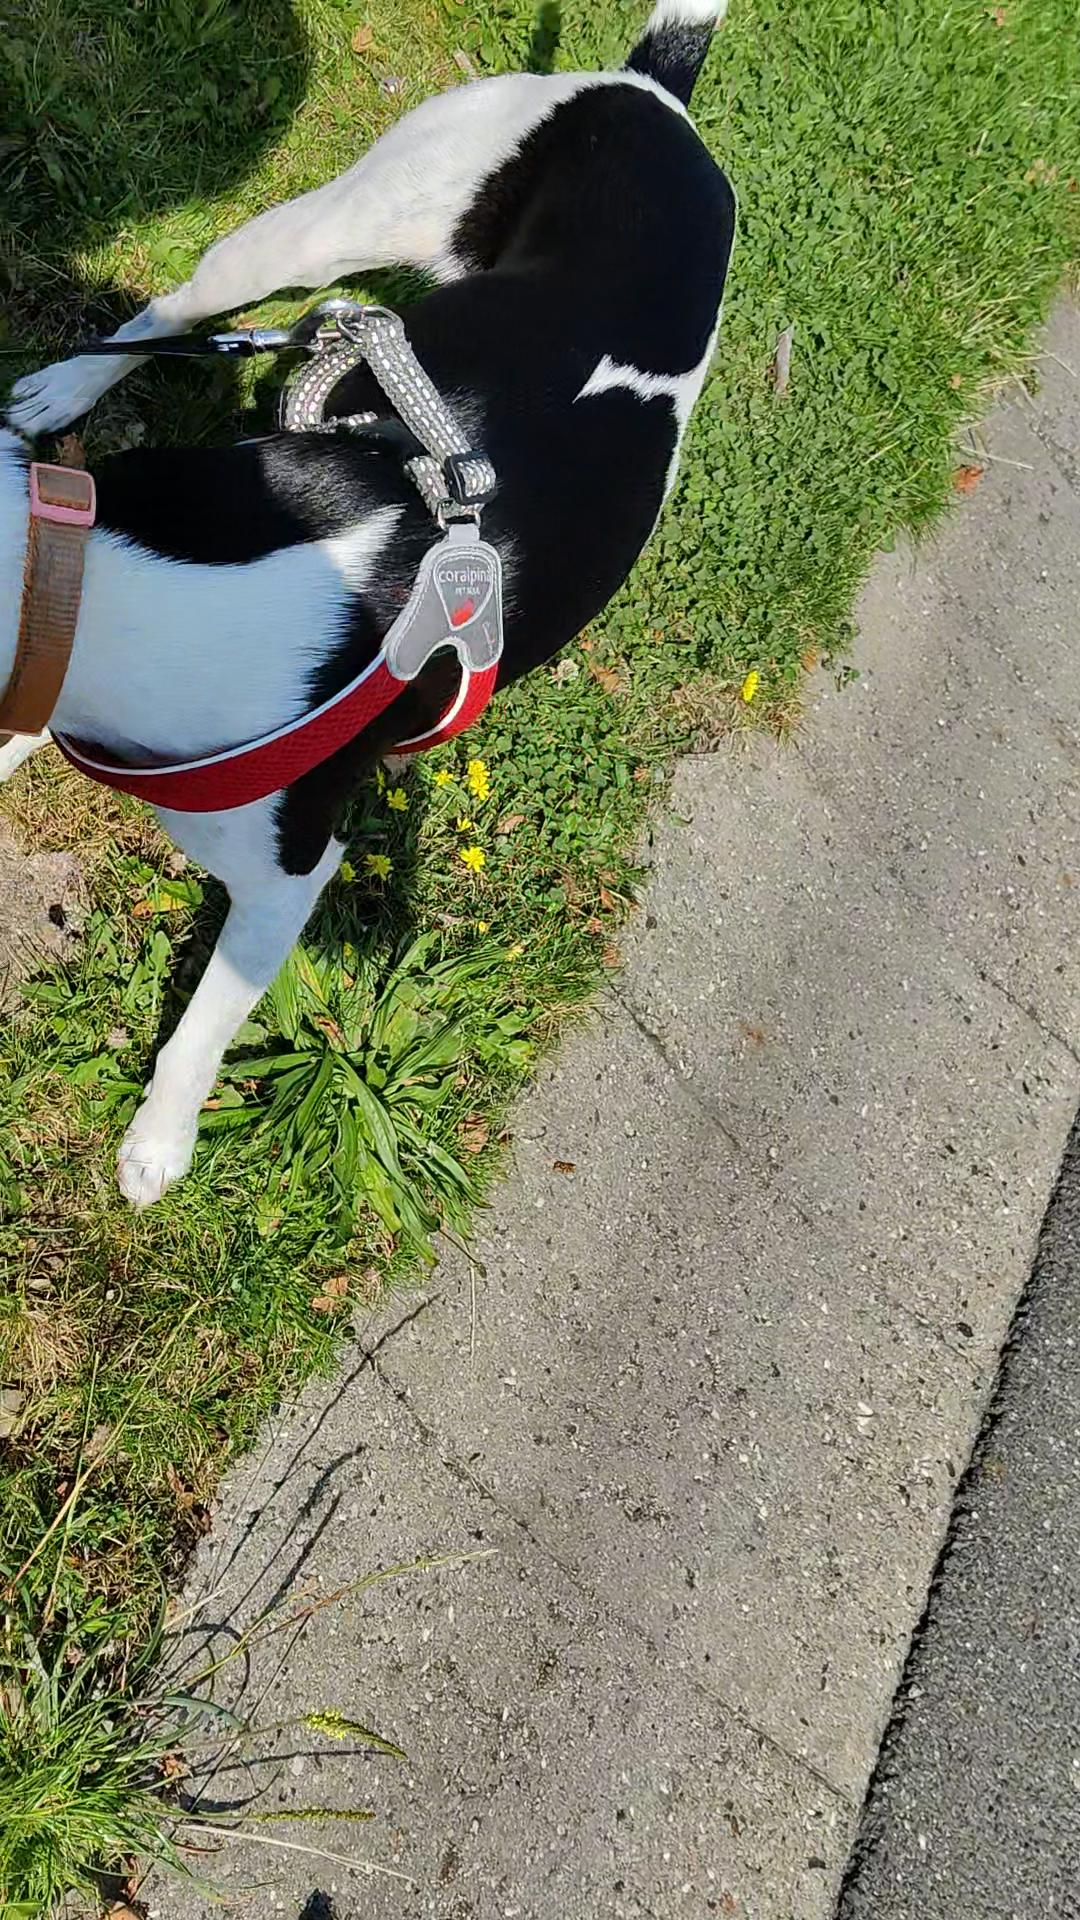Dog: (0, 0, 742, 1237)
